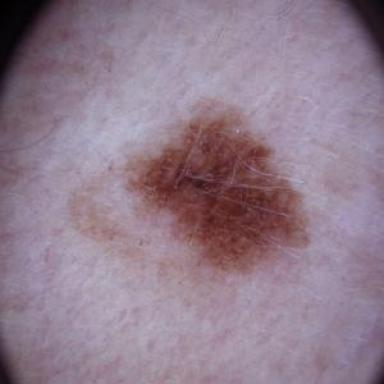Melanoma: (127, 101, 306, 271)
